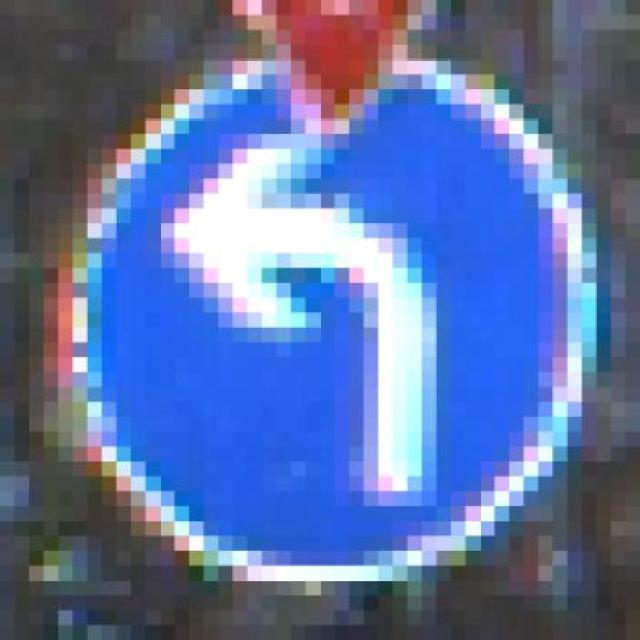Turn left ahead: (43, 29, 611, 611)
